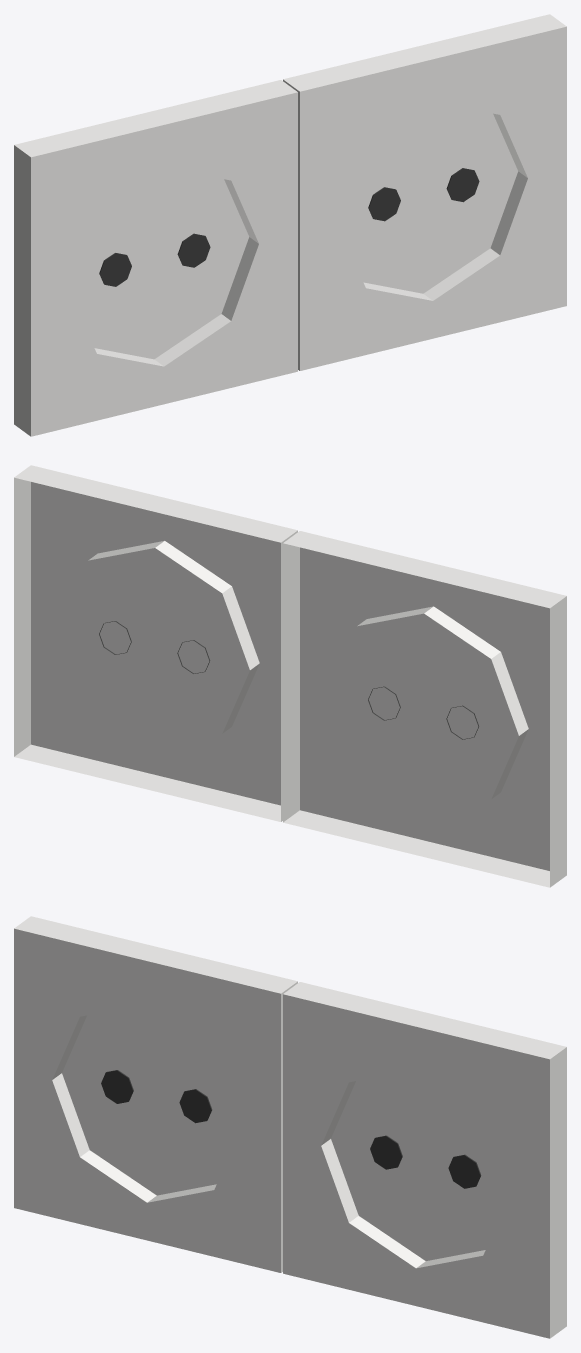
Rendered from Socket_1.fbx.
3 renders of one model, top to bottom at view 1: azimuth 30°, elevation 25°; view 2: azimuth 150°, elevation 25°; view 3: azimuth 330°, elevation 25°, orthographic.
Parts seen in each view (by area): view 1: Socket_1; view 2: Socket_1; view 3: Socket_1.
Part boxes in pixels (box(x1,y1,x2,y2)): Socket_1: box(14, 14, 566, 436); Socket_1: box(14, 465, 566, 887); Socket_1: box(14, 916, 566, 1338).
Bounding box in the file's own units: 27.17 × 1.49 × 13.53.
